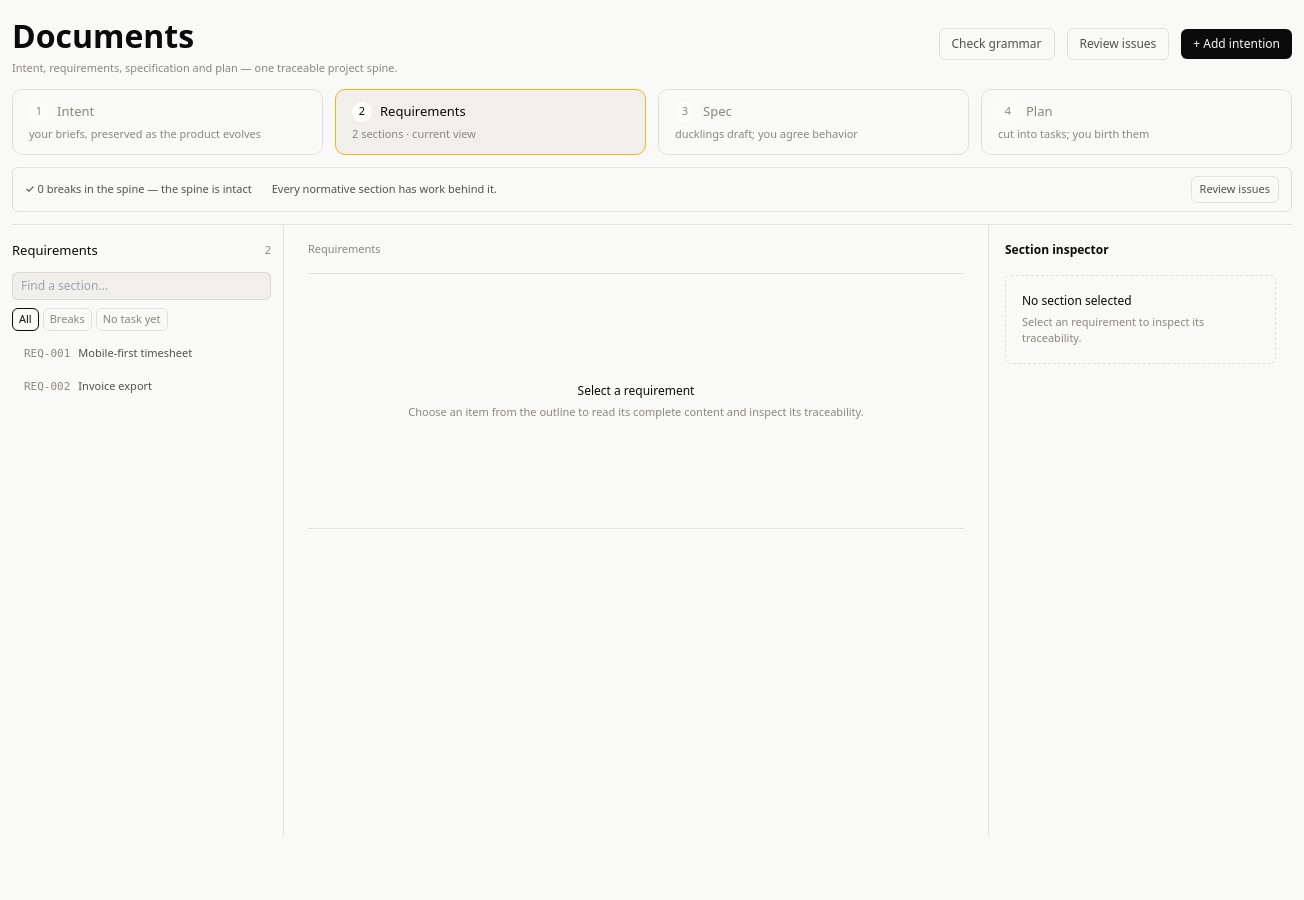
Test: Cycle › turns a focused requirement change into contextual Intent
Click the button with test id "cycle-index-row": (142, 387) [12,372,271,402]
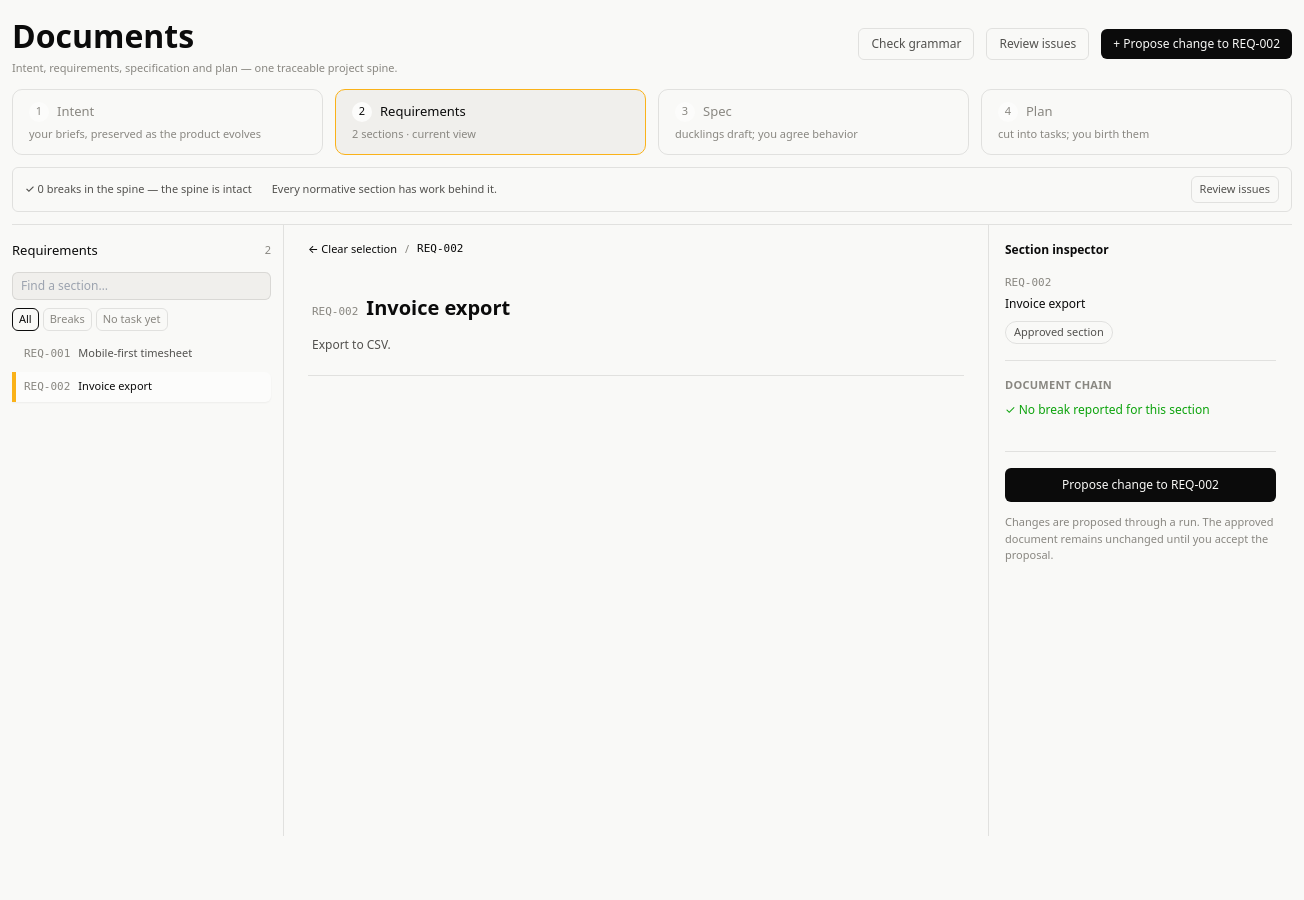
Click the button with test id "cycle-primary-action": (1197, 44) [1101,29,1292,59]
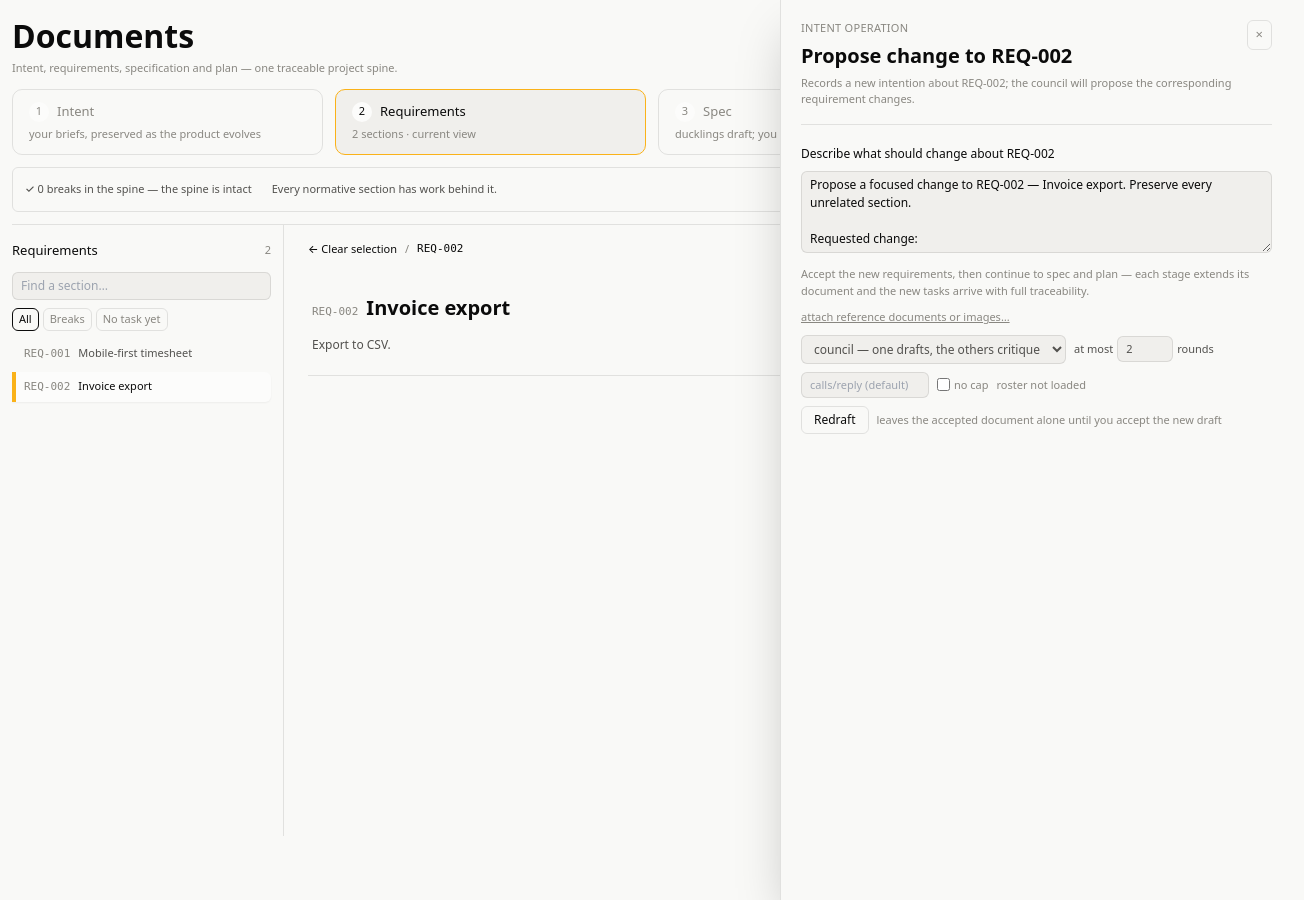
Result: the text "Intent operation" is shown at [801,20,908,35]
Result: the text "Records a new intention about REQ-002" is shown at [801,74,1231,106]
